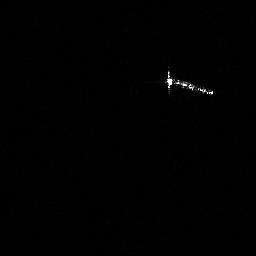ship: (161, 64, 215, 98)
